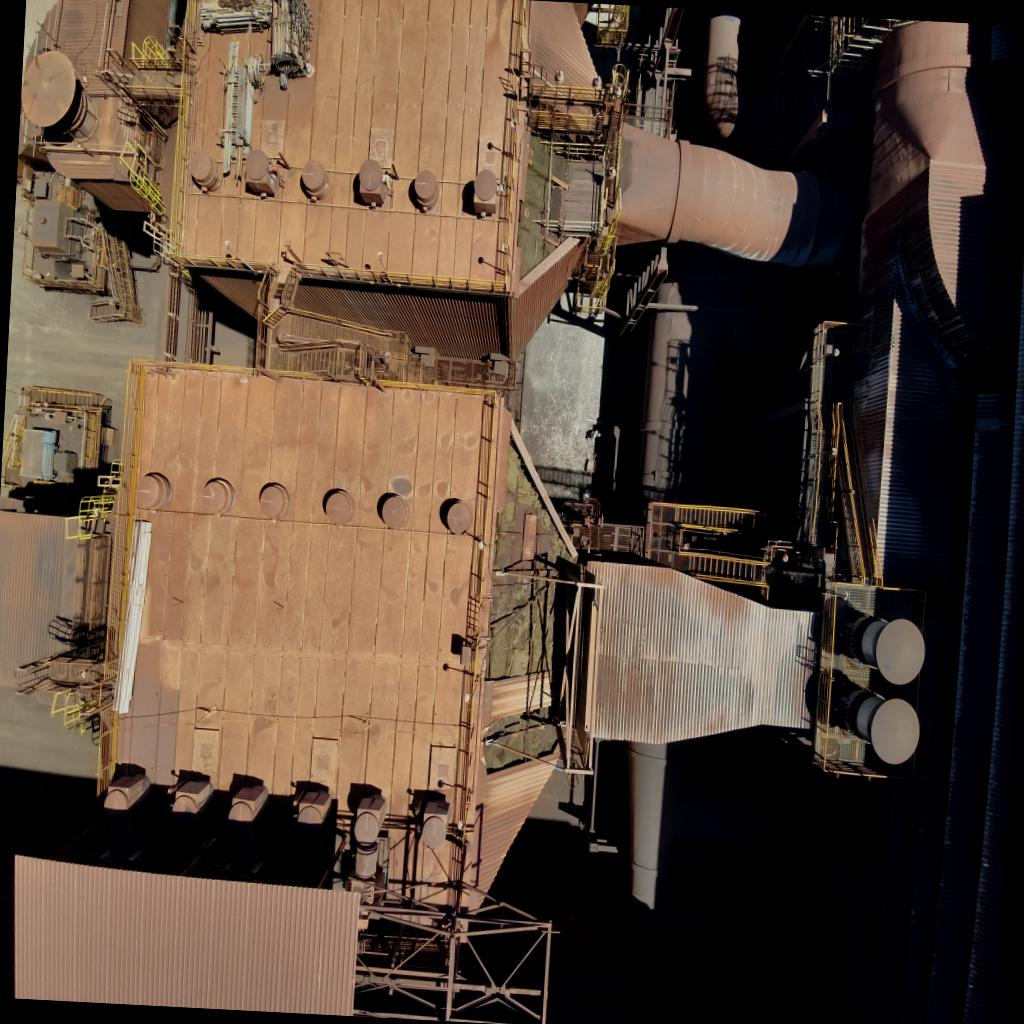Failures: (476, 419, 584, 689), (509, 82, 585, 306), (476, 690, 571, 796)
